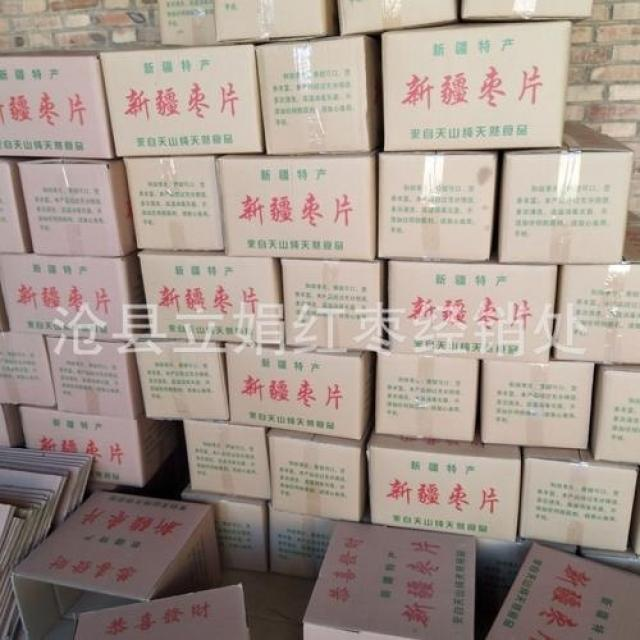box: (12, 490, 223, 640), (380, 20, 571, 150), (302, 520, 477, 640), (498, 120, 635, 264), (101, 44, 265, 157), (388, 255, 558, 362), (215, 152, 378, 260), (367, 430, 520, 540), (483, 543, 640, 640), (259, 35, 383, 155), (225, 344, 374, 440), (552, 211, 640, 365), (140, 251, 284, 344), (22, 406, 183, 488), (378, 151, 498, 261), (0, 251, 148, 340), (518, 447, 637, 552), (17, 159, 134, 257), (268, 422, 374, 524), (480, 360, 594, 451), (73, 582, 251, 640), (282, 259, 387, 352), (123, 156, 223, 252), (375, 351, 477, 442), (46, 335, 142, 420), (136, 338, 230, 420), (180, 485, 269, 571), (183, 420, 273, 499), (219, 570, 317, 639), (215, 0, 340, 44), (270, 502, 338, 576), (475, 538, 530, 628), (590, 365, 640, 463), (335, 0, 458, 36), (0, 330, 56, 407), (0, 157, 31, 253), (460, 0, 593, 20), (157, 0, 216, 44), (580, 549, 640, 572), (1, 404, 23, 447), (630, 470, 640, 556), (535, 541, 579, 554)
